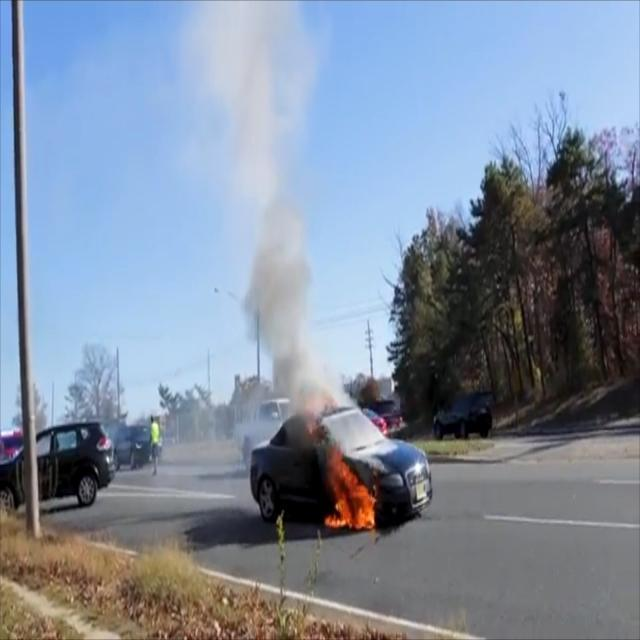fire: (306, 392, 374, 541)
